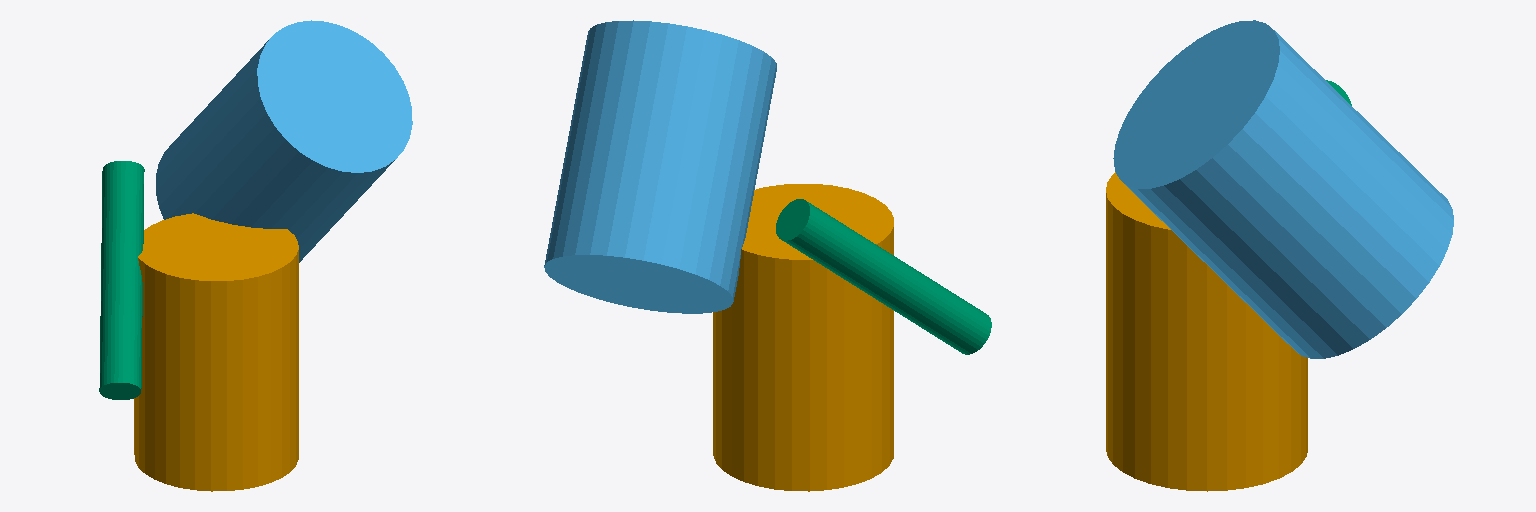
URDF robot description (pepe):
<?xml version="1.0"?><robot name="pepe">
	<link name="0">
		<visual>
			<geometry>
				<cylinder length="0.9388865690218283" radius="0.333432941226791"/>
			</geometry>
		</visual>
		<collision>
			<geometry>
				<cylinder length="0.9388865690218283" radius="0.333432941226791"/>
			</geometry>
		</collision>
		<inertial>
			<mass value="0.32792913681391567"/>
			<inertia ixx="0.03" iyy="0.03" izz="0.03" ixy="0" ixz="0" iyx="0"/>
		</inertial>
	</link>
	<link name="11">
		<visual>
			<geometry>
				<cylinder length="0.9050467714878204" radius="0.3541885034552046"/>
			</geometry>
		</visual>
		<collision>
			<geometry>
				<cylinder length="0.9050467714878204" radius="0.3541885034552046"/>
			</geometry>
		</collision>
		<inertial>
			<mass value="0.3566890827128445"/>
			<inertia ixx="0.03" iyy="0.03" izz="0.03" ixy="0" ixz="0" iyx="0"/>
		</inertial>
	</link>
	<link name="22">
		<visual>
			<geometry>
				<cylinder length="0.9935338638982115" radius="0.08542909363664342"/>
			</geometry>
		</visual>
		<collision>
			<geometry>
				<cylinder length="0.9935338638982115" radius="0.08542909363664342"/>
			</geometry>
		</collision>
		<inertial>
			<mass value="0.02277949775417049"/>
			<inertia ixx="0.03" iyy="0.03" izz="0.03" ixy="0" ixz="0" iyx="0"/>
		</inertial>
	</link>
	<joint name="11_to_0" type="revolute">
		<parent link="0"/>
		<child link="11"/>
		<axis xyz="0 0 1"/>
		<limit effort="1" upper="-3.1415" lower="3.1415" velocity="1"/>
		<origin rpy="5.873780270103061 2.5415082008012324 1.1640301547018626" xyz="0.4611424554660454 0.25258843469809755 0.6854968528065518"/>
	</joint>
	<joint name="22_to_11" type="revolute">
		<parent link="11"/>
		<child link="22"/>
		<axis xyz="1 0 0"/>
		<limit effort="1" upper="-3.1415" lower="3.1415" velocity="1"/>
		<origin rpy="0.12912965114123767 4.84398934490084 3.066574188445359" xyz="0.578508655828635 0.6655694404696937 0.2695620198697384"/>
	</joint>
</robot>

--- Facts derived from the render (not from the file) ---
The picture shows the robot from 3 angles, left to right: view 1: azimuth 30°, elevation 25°; view 2: azimuth 150°, elevation 25°; view 3: azimuth 270°, elevation 25°; orthographic projection.
Robot: pepe — 3 links, 2 joints (2 revolute); root link 0; default pose: every joint at zero.
Links seen in each view (by area): view 1: 0, 11, 22; view 2: 11, 0, 22; view 3: 11, 0.
Boxes of the visible links, bbox=[...] form: 0: bbox=[134, 213, 298, 491]; 11: bbox=[156, 20, 412, 262]; 22: bbox=[99, 161, 144, 399]; 11: bbox=[544, 20, 776, 313]; 0: bbox=[713, 184, 893, 491]; 22: bbox=[776, 199, 991, 354]; 11: bbox=[1113, 20, 1453, 358]; 0: bbox=[1106, 172, 1307, 491].
Bounding box of the posed robot: 1.55 × 1.15 × 1.73 m (x, y, z).
Geometry: primitives only (box / cylinder / sphere), no mesh files.
